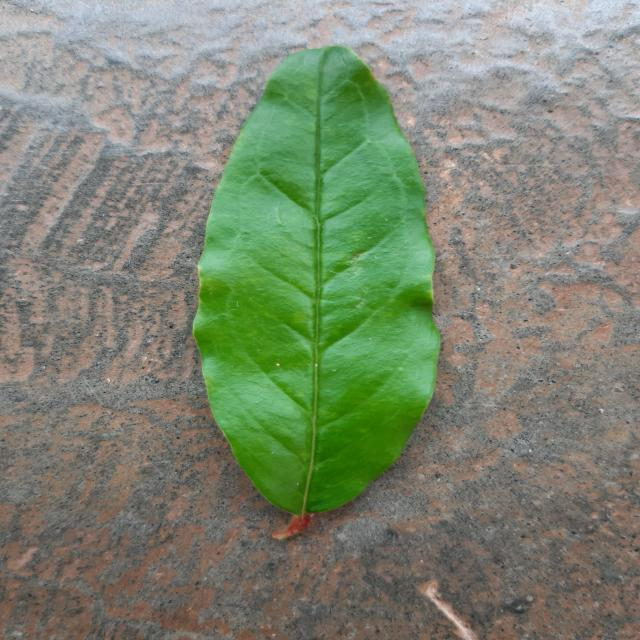pomgranate: (193, 46, 440, 539)
